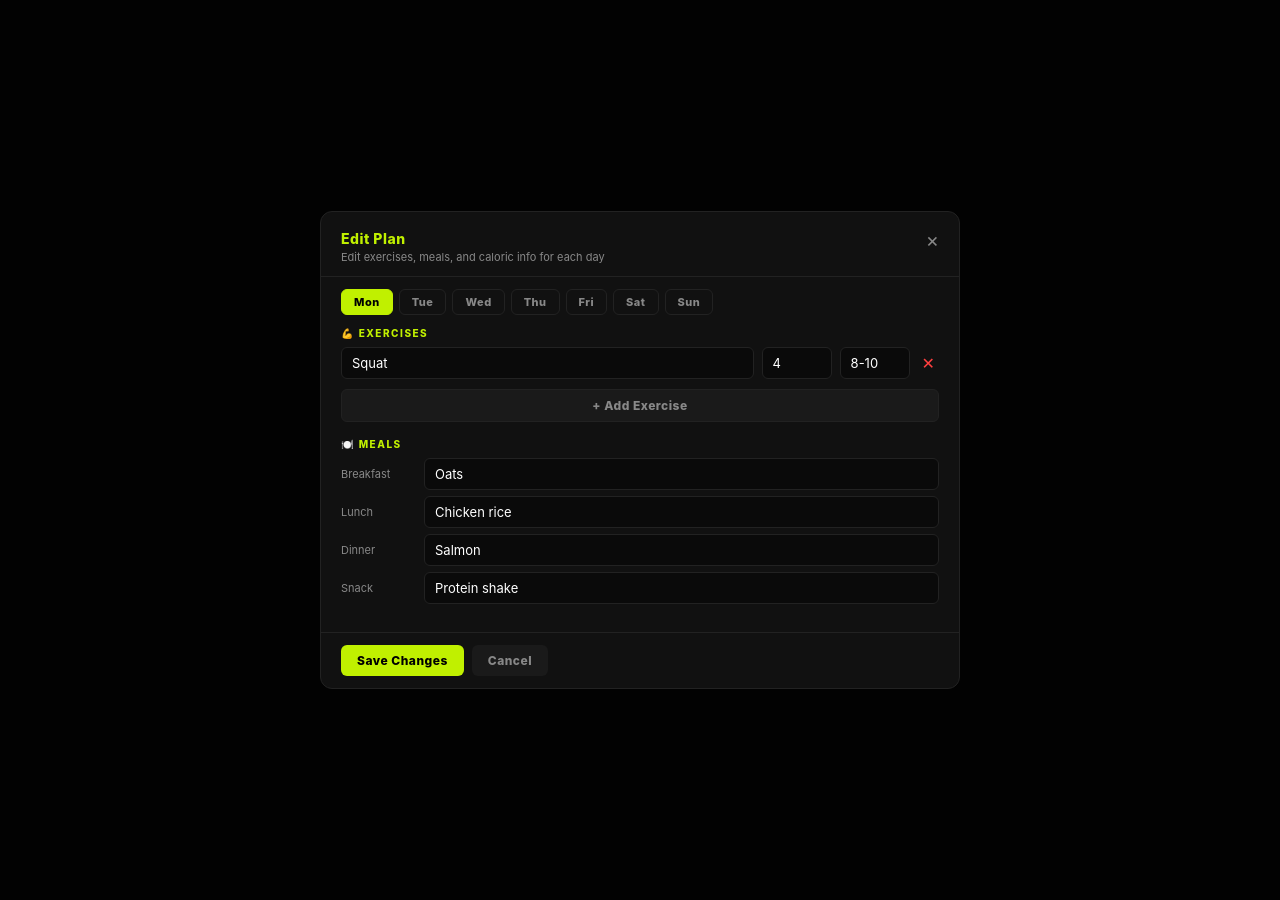
PlanModal › switches to rest activity view when Tue tab clicked
The image size is (1280, 900).
What coordinates should you click on to do the following:
click the button "Tue"
I would click on:
 (423, 302)
Its box is [399,289,446,315].
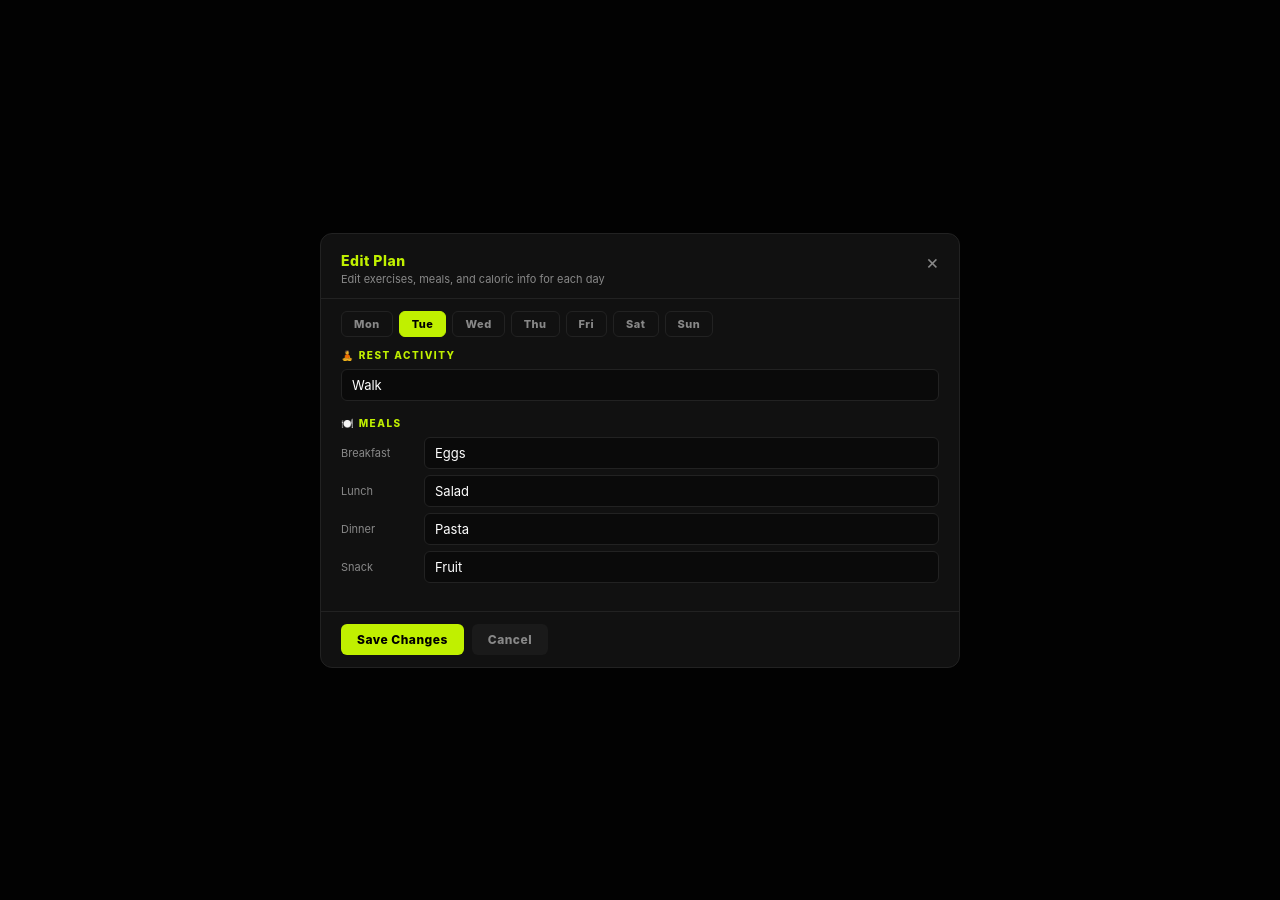
Check: the field showing "Walk" below "🧘 REST ACTIVITY" is shown, box [341,368,939,400]
